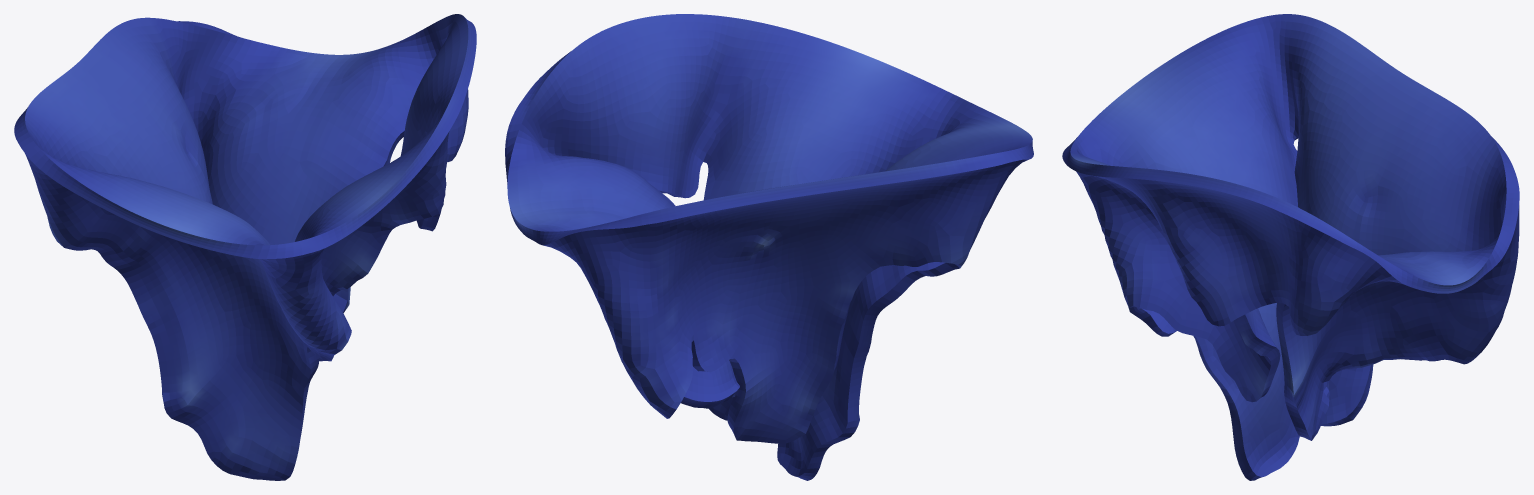
The picture shows the model from 3 angles, left to right: view 1: azimuth 30°, elevation 25°; view 2: azimuth 150°, elevation 25°; view 3: azimuth 270°, elevation 25°; orthographic projection. The views are drawn at different scales.
Visible parts, largest first — view 1: OCS14_maxS_9; view 2: OCS14_maxS_9; view 3: OCS14_maxS_9.
Part boxes in pixels (x1=…): OCS14_maxS_9: x1=14, y1=14, x2=476, y2=480; OCS14_maxS_9: x1=505, y1=14, x2=1033, y2=480; OCS14_maxS_9: x1=1062, y1=14, x2=1519, y2=480.
Bounding box in the file's own units: 1.44 × 1.2 × 1.32.
